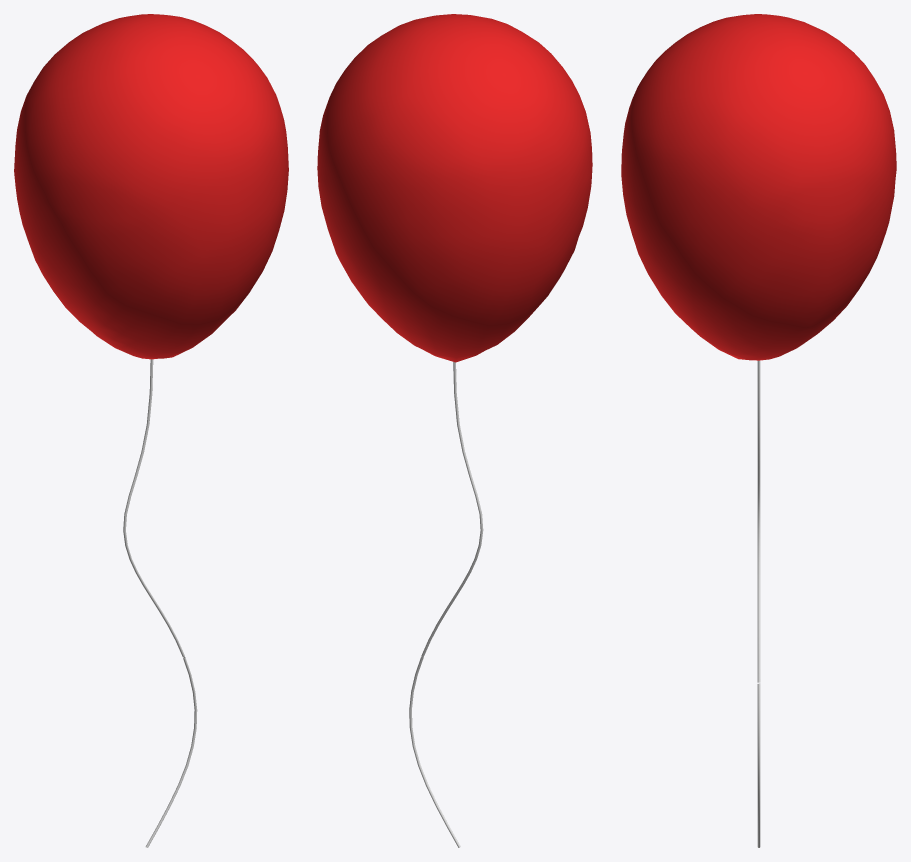
3 views of the same model, side by side, from view 1: azimuth 30°, elevation 25°; view 2: azimuth 150°, elevation 25°; view 3: azimuth 270°, elevation 25° (orthographic).
Visible parts, largest first — view 1: pPlatonic1, polySurface1, polySurface2; view 2: pPlatonic1, polySurface1, polySurface2; view 3: pPlatonic1, polySurface1, polySurface2.
Part boxes in pixels (box(x1,y1,x2,y2)): pPlatonic1: box(14, 14, 288, 359); polySurface1: box(123, 359, 184, 656); polySurface2: box(145, 657, 197, 847); pPlatonic1: box(317, 14, 592, 362); polySurface1: box(421, 362, 483, 656); polySurface2: box(409, 656, 460, 847); pPlatonic1: box(621, 14, 896, 360); polySurface1: box(757, 360, 760, 682); polySurface2: box(757, 683, 760, 847).
Size of the model in its own units: 2.02 by 6.66 by 2.02.
